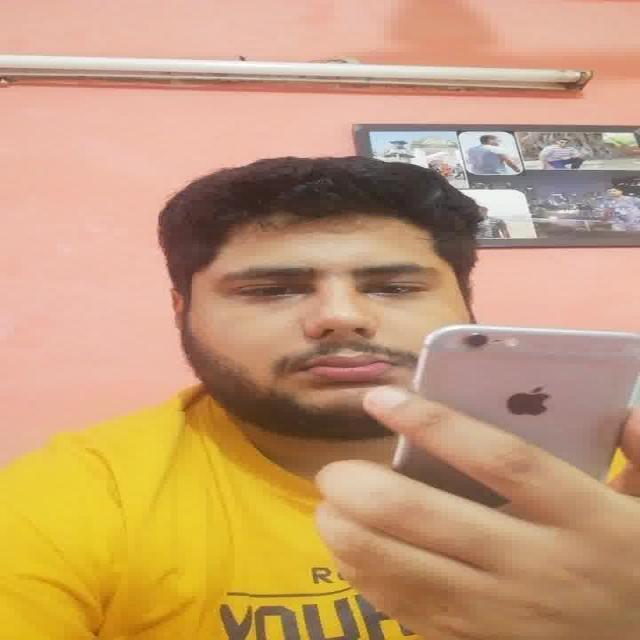Phone: (394, 324, 638, 514)
